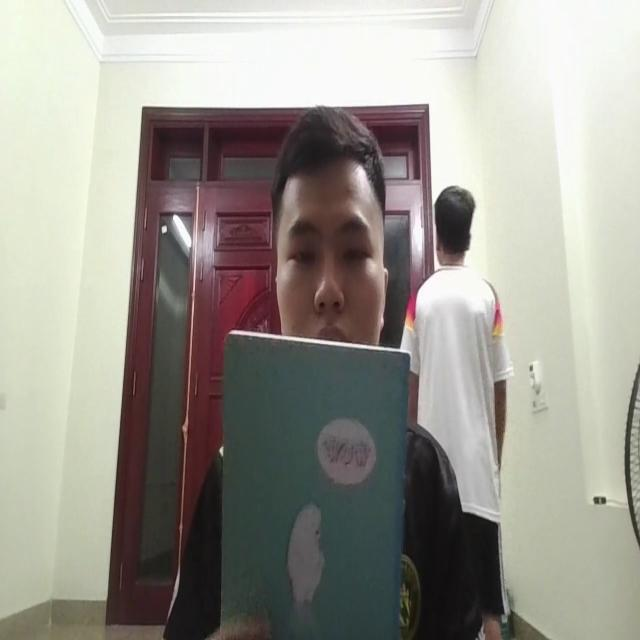book: (212, 319, 419, 640)
extra_person: (413, 178, 504, 563)
student: (178, 104, 478, 640)
